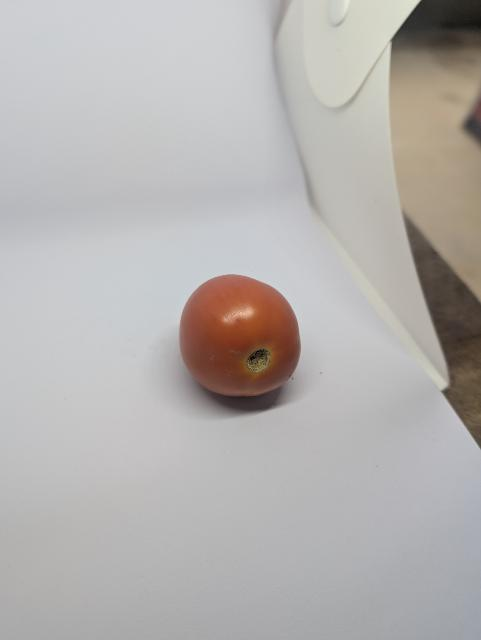red: (167, 258, 323, 418)
